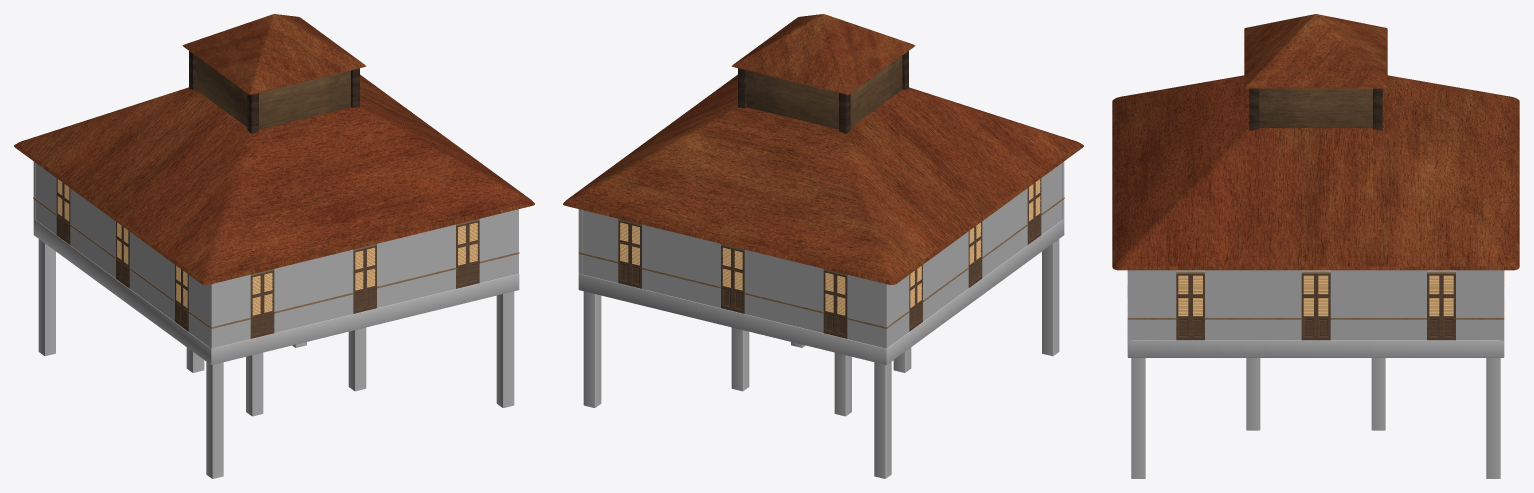
File: Surau Body.fbx
3 renders of one model, left to right at view 1: azimuth 30°, elevation 25°; view 2: azimuth 150°, elevation 25°; view 3: azimuth 270°, elevation 25°, orthographic. The views are drawn at different scales.
Visible parts, largest first — view 1: Main Roof, Top Roof, Floor, Box4929, Box6244, Box6179, Box6118, Box6183, Box6240, Box6122, Floor Support beam018, Floor Support beam014 (+13 smaller); view 2: Main Roof, Top Roof, Floor, Box6482, Box5752, Box5817, Box5878, Box5813, Box5756, Box5874, Floor Support beam017, Floor Support beam011 (+13 smaller); view 3: Main Roof, Top Roof, Floor, Box6480, Box5996, Box5935, Box6000, Box6061, Box6057, Box5939, Floor Support beam018, Floor Support beam017 (+8 smaller).
Boxes of the visible parts, left/top/right/bottom form: Main Roof: left=14, top=74, right=534, bottom=284; Top Roof: left=182, top=14, right=366, bottom=94; Floor: left=33, top=219, right=519, bottom=364; Box4929: left=259, top=70, right=350, bottom=129; Box6244: left=274, top=259, right=313, bottom=333; Box6179: left=314, top=249, right=353, bottom=323; Box6118: left=416, top=224, right=455, bottom=298; Box6183: left=377, top=234, right=416, bottom=307; Box6240: left=209, top=274, right=250, bottom=348; Box6122: left=479, top=210, right=515, bottom=282; Floor Support beam018: left=496, top=291, right=514, bottom=407; Floor Support beam014: left=206, top=362, right=223, bottom=478; Main Roof: left=563, top=74, right=1083, bottom=284; Top Roof: left=731, top=14, right=915, bottom=94; Floor: left=578, top=219, right=1064, bottom=364; Box6482: left=747, top=70, right=838, bottom=129; Box5752: left=784, top=259, right=823, bottom=333; Box5817: left=744, top=249, right=783, bottom=323; Box5878: left=642, top=224, right=681, bottom=298; Box5813: left=681, top=234, right=720, bottom=307; Box5756: left=847, top=274, right=888, bottom=348; Box5874: left=578, top=209, right=618, bottom=282; Floor Support beam017: left=583, top=291, right=601, bottom=407; Floor Support beam011: left=874, top=362, right=891, bottom=478; Main Roof: left=1112, top=75, right=1519, bottom=270; Top Roof: left=1244, top=14, right=1387, bottom=88; Floor: left=1127, top=270, right=1504, bottom=357; Box6480: left=1259, top=88, right=1372, bottom=127; Box5996: left=1253, top=270, right=1301, bottom=340; Box5935: left=1378, top=270, right=1426, bottom=340; Box6000: left=1330, top=270, right=1378, bottom=340; Box6061: left=1205, top=270, right=1253, bottom=340; Box6057: left=1132, top=270, right=1176, bottom=340; Box5939: left=1456, top=270, right=1499, bottom=340; Floor Support beam018: left=1131, top=358, right=1145, bottom=478; Floor Support beam017: left=1486, top=358, right=1500, bottom=478.
Bounding box in the file's own units: 4152 × 4340 × 4152.
